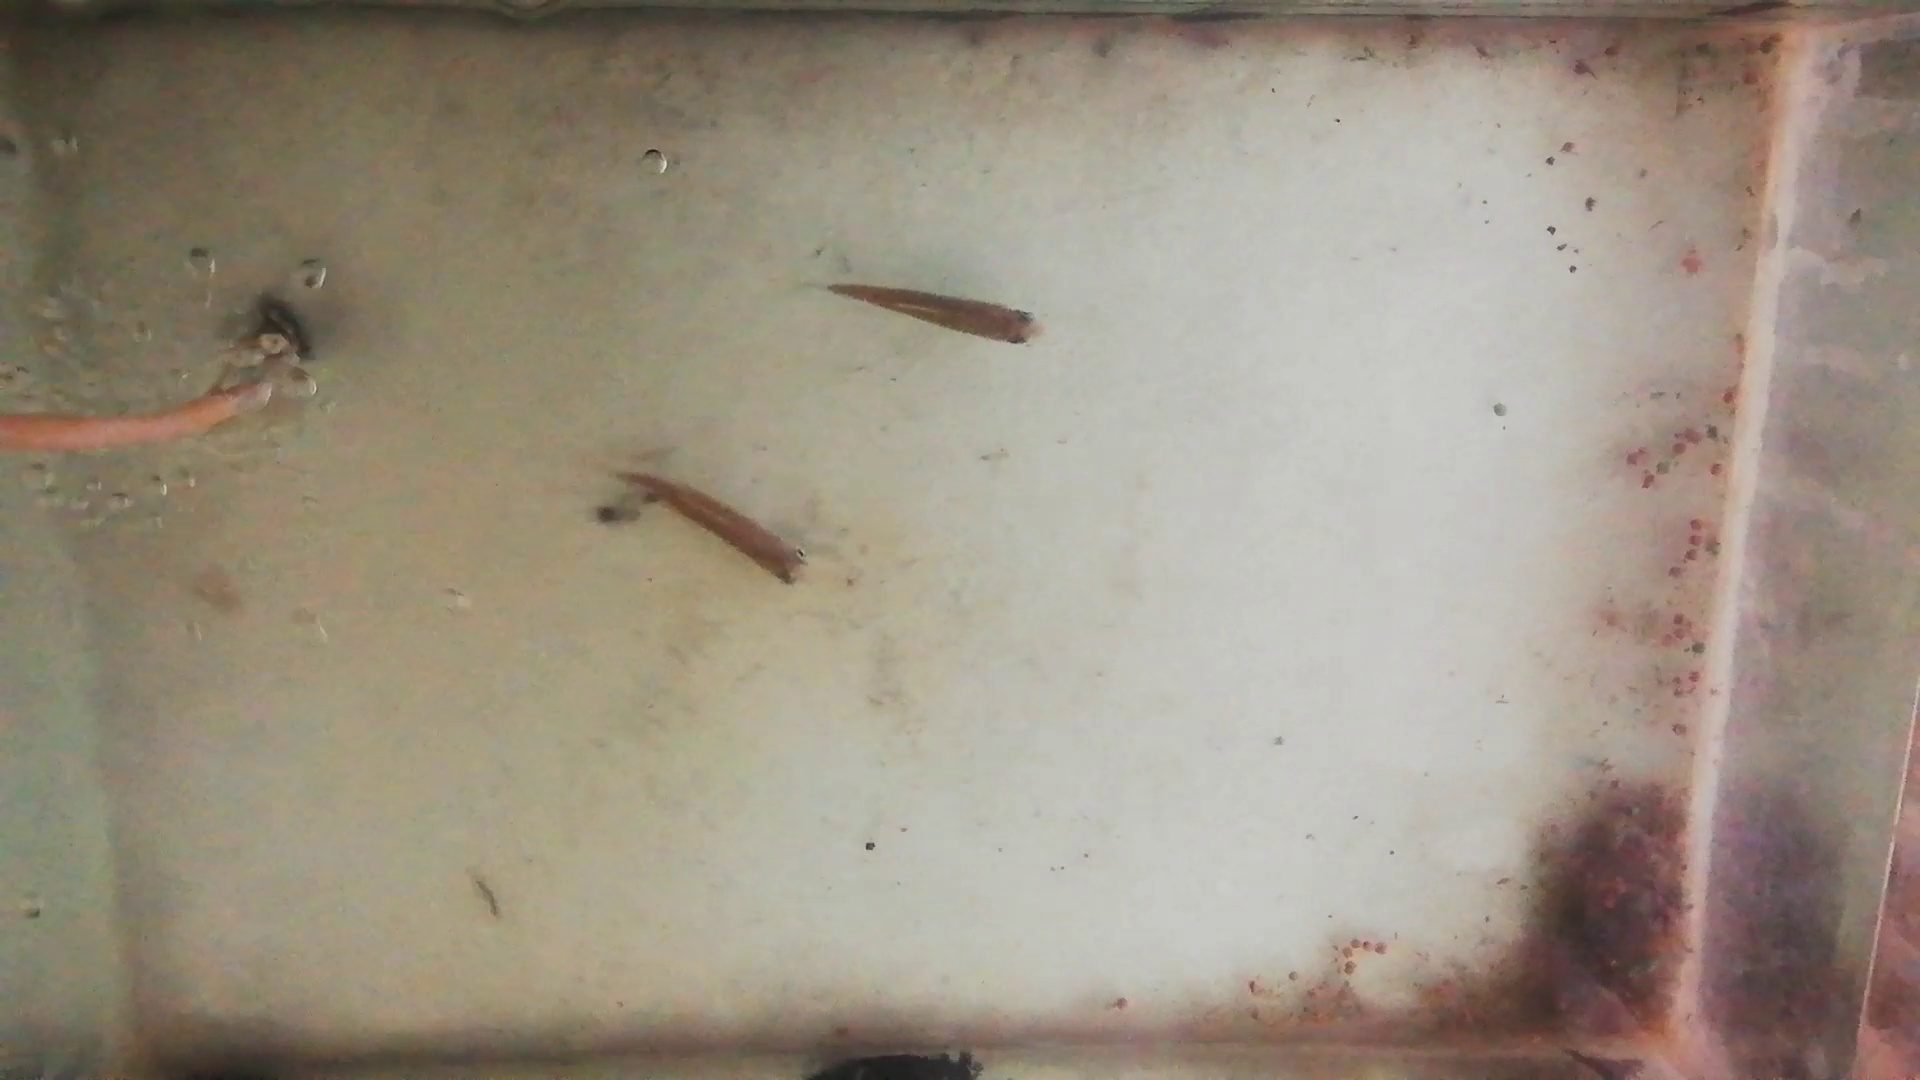fish: (624, 473, 814, 585), (833, 280, 1046, 347)
